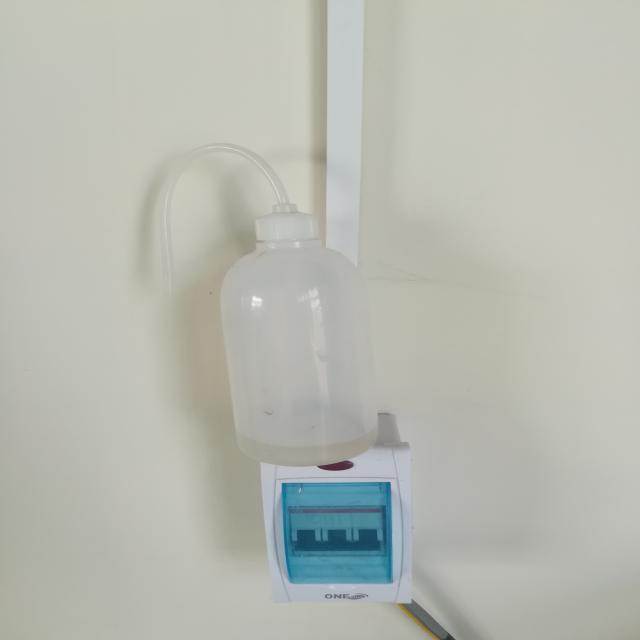Wash_Bottle: (117, 115, 400, 489)
